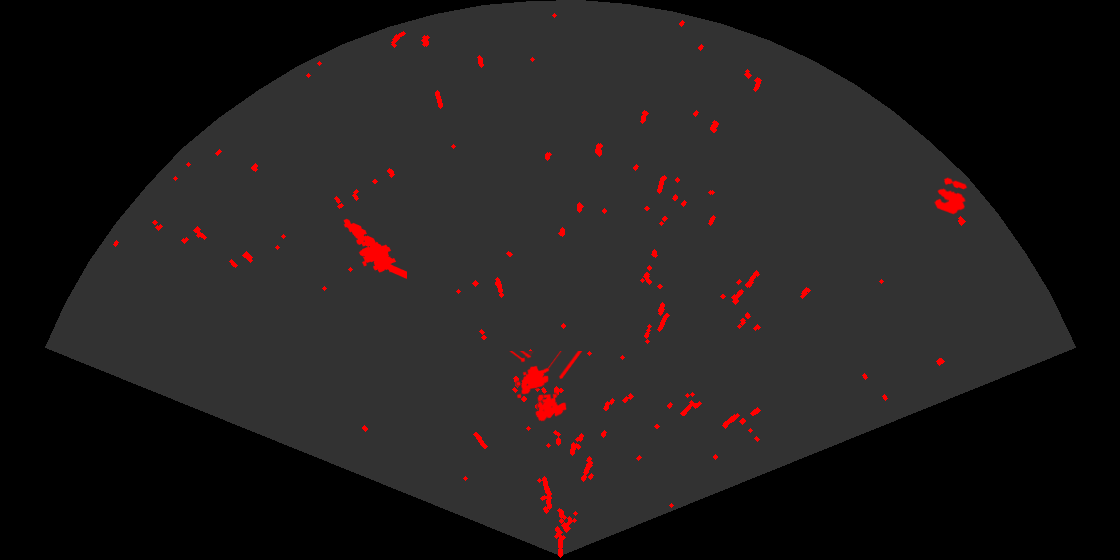ball: (932, 176, 969, 216)
cage: (508, 351, 584, 423)
frogman: (342, 217, 407, 280)
